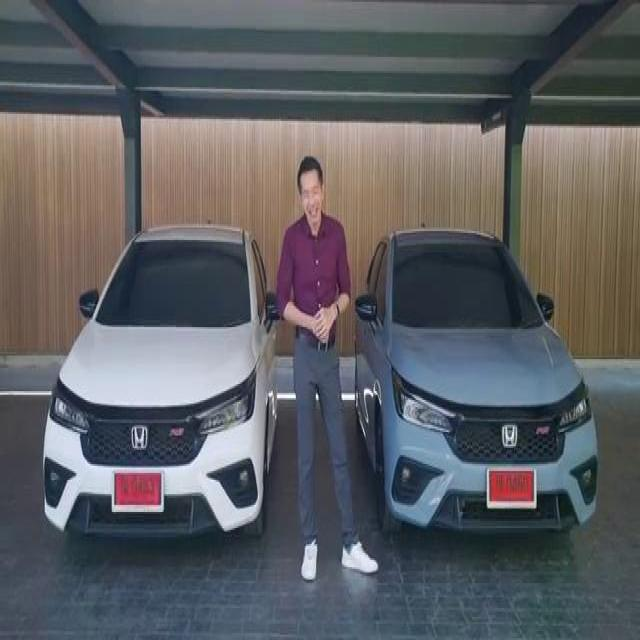Hatchback: (355, 228, 597, 528), (44, 226, 276, 535)
